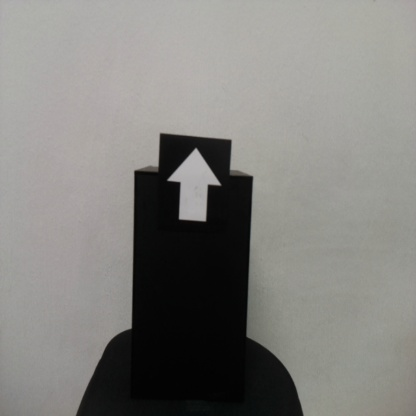id_1: (160, 138, 231, 231)
